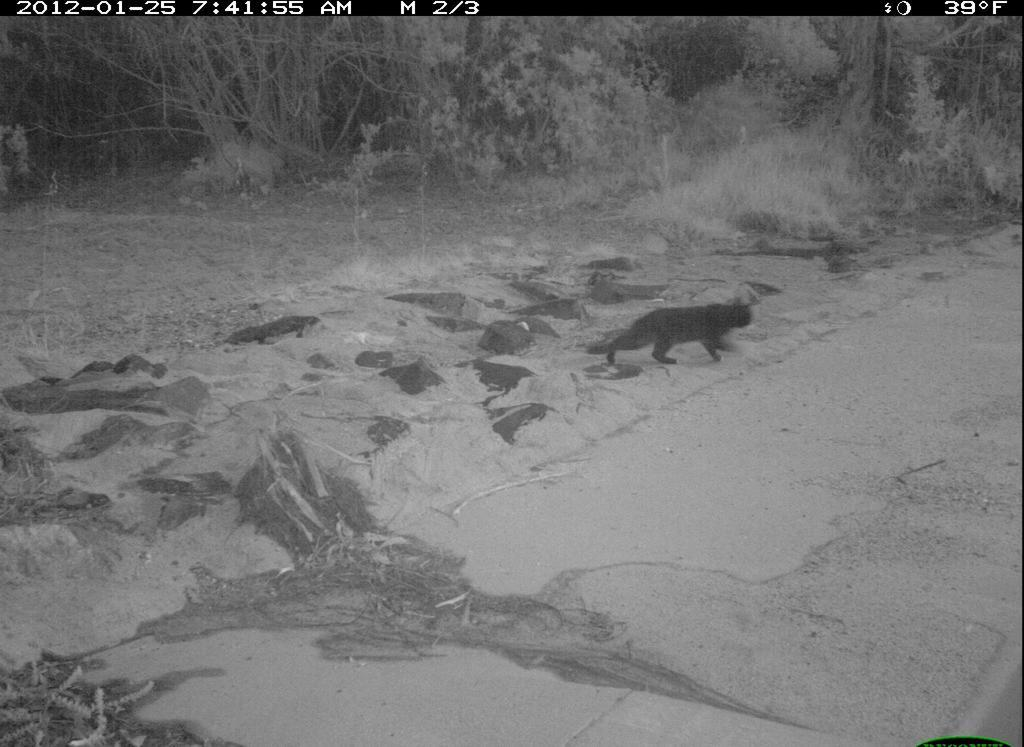cat: (582, 292, 779, 382)
